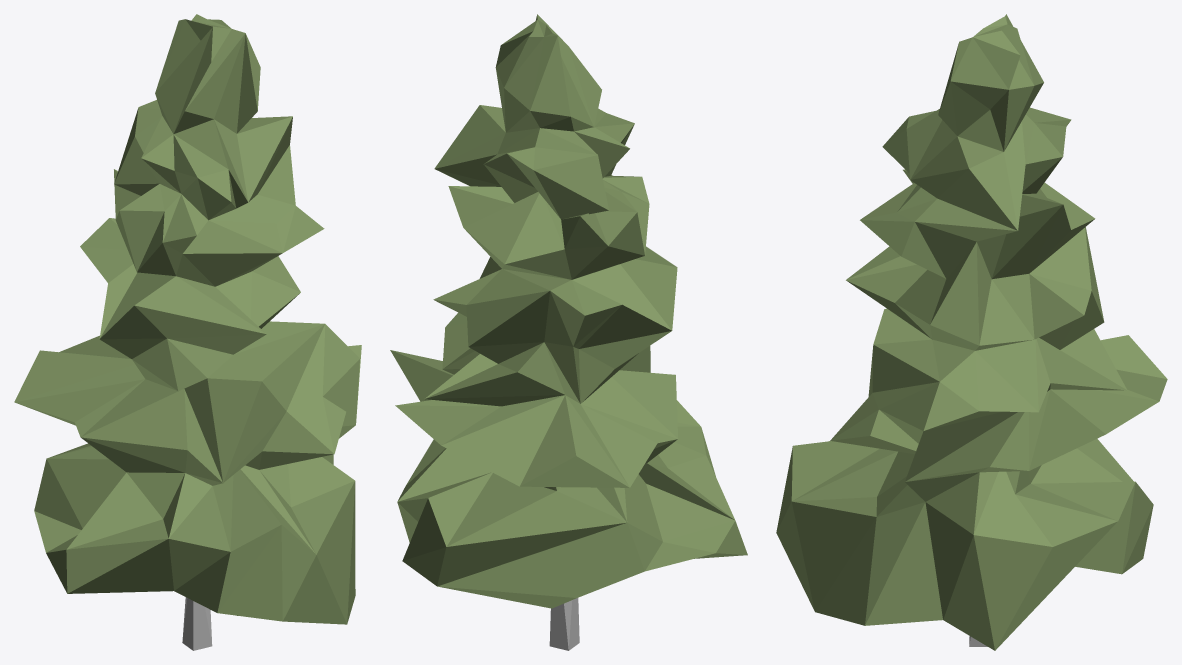
File: P_Tree_pine_14meters.FBX
The picture shows the model from 3 angles, left to right: view 1: azimuth 30°, elevation 25°; view 2: azimuth 150°, elevation 25°; view 3: azimuth 270°, elevation 25°; orthographic projection.
Parts seen in each view (by area): view 1: P_Tree_pine_14meters_LOD0; view 2: P_Tree_pine_14meters_LOD0; view 3: P_Tree_pine_14meters_LOD0.
Boxes of the visible parts, box(x1,y1,x2,y2) form: P_Tree_pine_14meters_LOD0: box(14, 14, 361, 650); P_Tree_pine_14meters_LOD0: box(390, 14, 747, 650); P_Tree_pine_14meters_LOD0: box(776, 14, 1167, 650).
Size of what is drawn, in the model's own units: 8.09 by 14.66 by 8.3.
